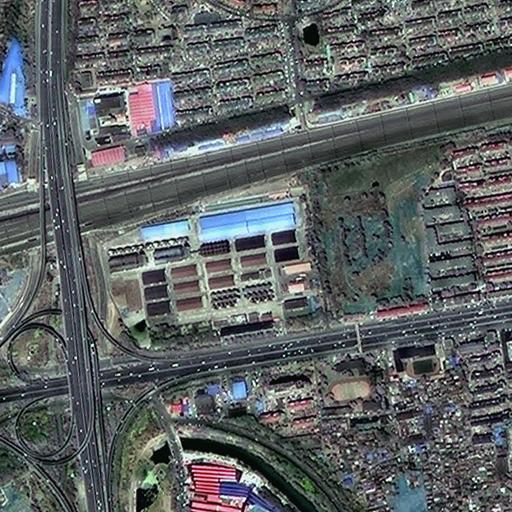school: (316, 356, 386, 420), (390, 338, 442, 382)
